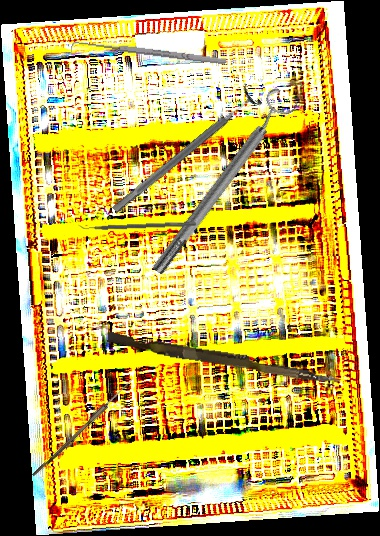Fixation Ring: (142, 85, 301, 281), (104, 81, 264, 222)
Hook Surgical: (70, 37, 227, 72)
Pusher: (106, 331, 342, 386)
Spatula Surgical: (76, 216, 197, 233)
Surgical Spoon: (32, 377, 134, 479)
